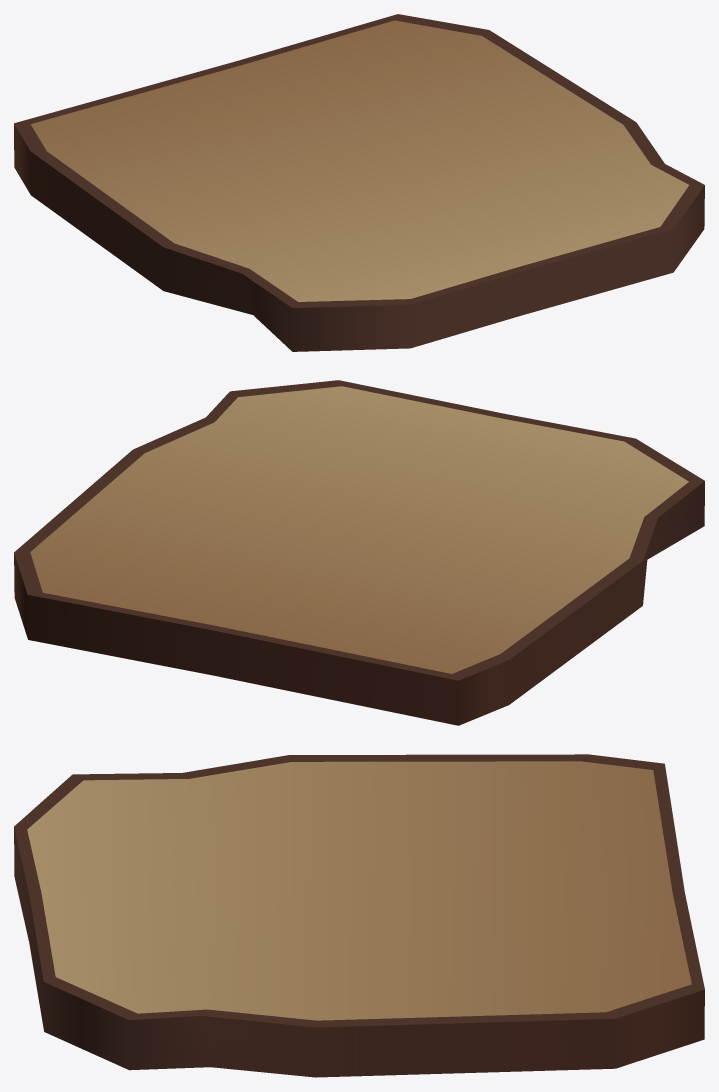
File: consumables-bakedgoods-sliceoftoast_v1.glb
3 views of the same model, one above another, from view 1: azimuth 30°, elevation 25°; view 2: azimuth 150°, elevation 25°; view 3: azimuth 270°, elevation 25° (orthographic). The views are drawn at different scales.
Parts seen in each view (by area): view 1: SliceOfToast.001; view 2: SliceOfToast.001; view 3: SliceOfToast.001.
Part boxes in pixels (x1,y1,x2,y2): SliceOfToast.001: (14,14,704,351); SliceOfToast.001: (14,380,704,725); SliceOfToast.001: (14,754,704,1077).
Bounding box in the file's own units: 0.1316 × 0.0119 × 0.1418.
